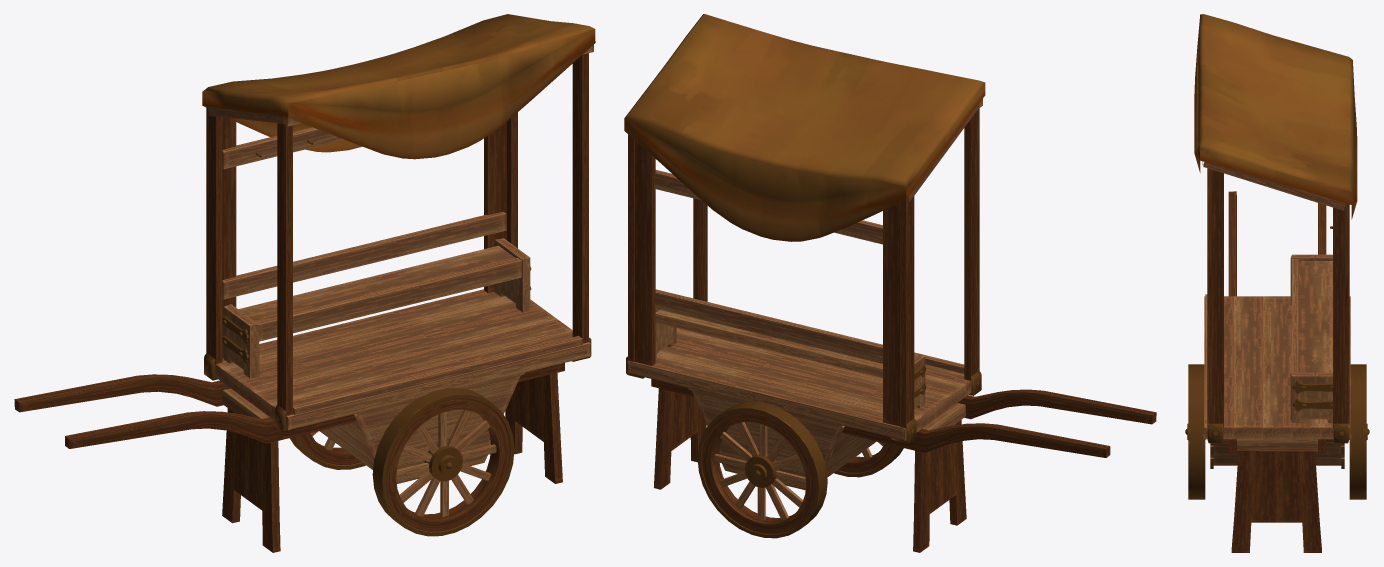
The model's file is Stall_Cart_Empty.glb.
3 renders of one model, left to right at view 1: azimuth 30°, elevation 25°; view 2: azimuth 150°, elevation 25°; view 3: azimuth 270°, elevation 25°, orthographic. The views are drawn at different scales.
Parts seen in each view (by area): view 1: Stall_Cart_Empty; view 2: Stall_Cart_Empty; view 3: Stall_Cart_Empty.
Boxes of the visible parts, bbox=[...] form: Stall_Cart_Empty: bbox=[14, 14, 595, 552]; Stall_Cart_Empty: bbox=[624, 14, 1156, 552]; Stall_Cart_Empty: bbox=[1185, 14, 1369, 552].
Bounding box in the file's own units: 3.02 × 2.63 × 1.06.
Materials: 3 (3 with a texture image).
